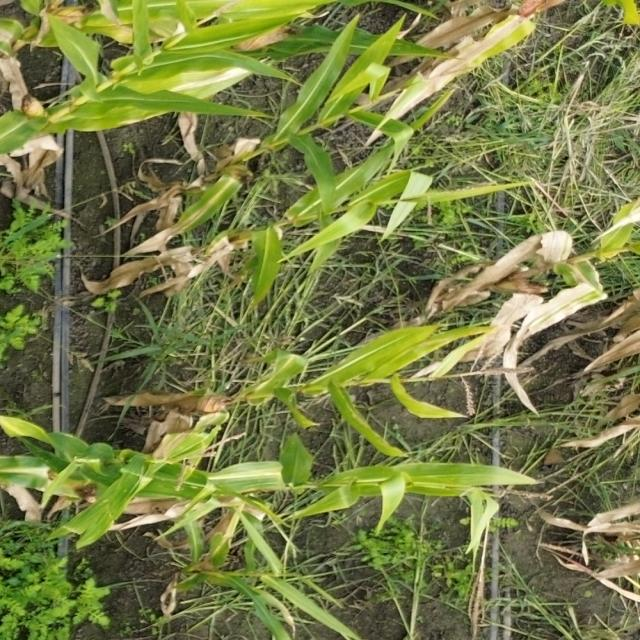gray-leaf-spot: (134, 443, 230, 512)
northern-leaf-blight: (157, 150, 251, 243), (524, 249, 604, 338), (145, 408, 211, 462)
